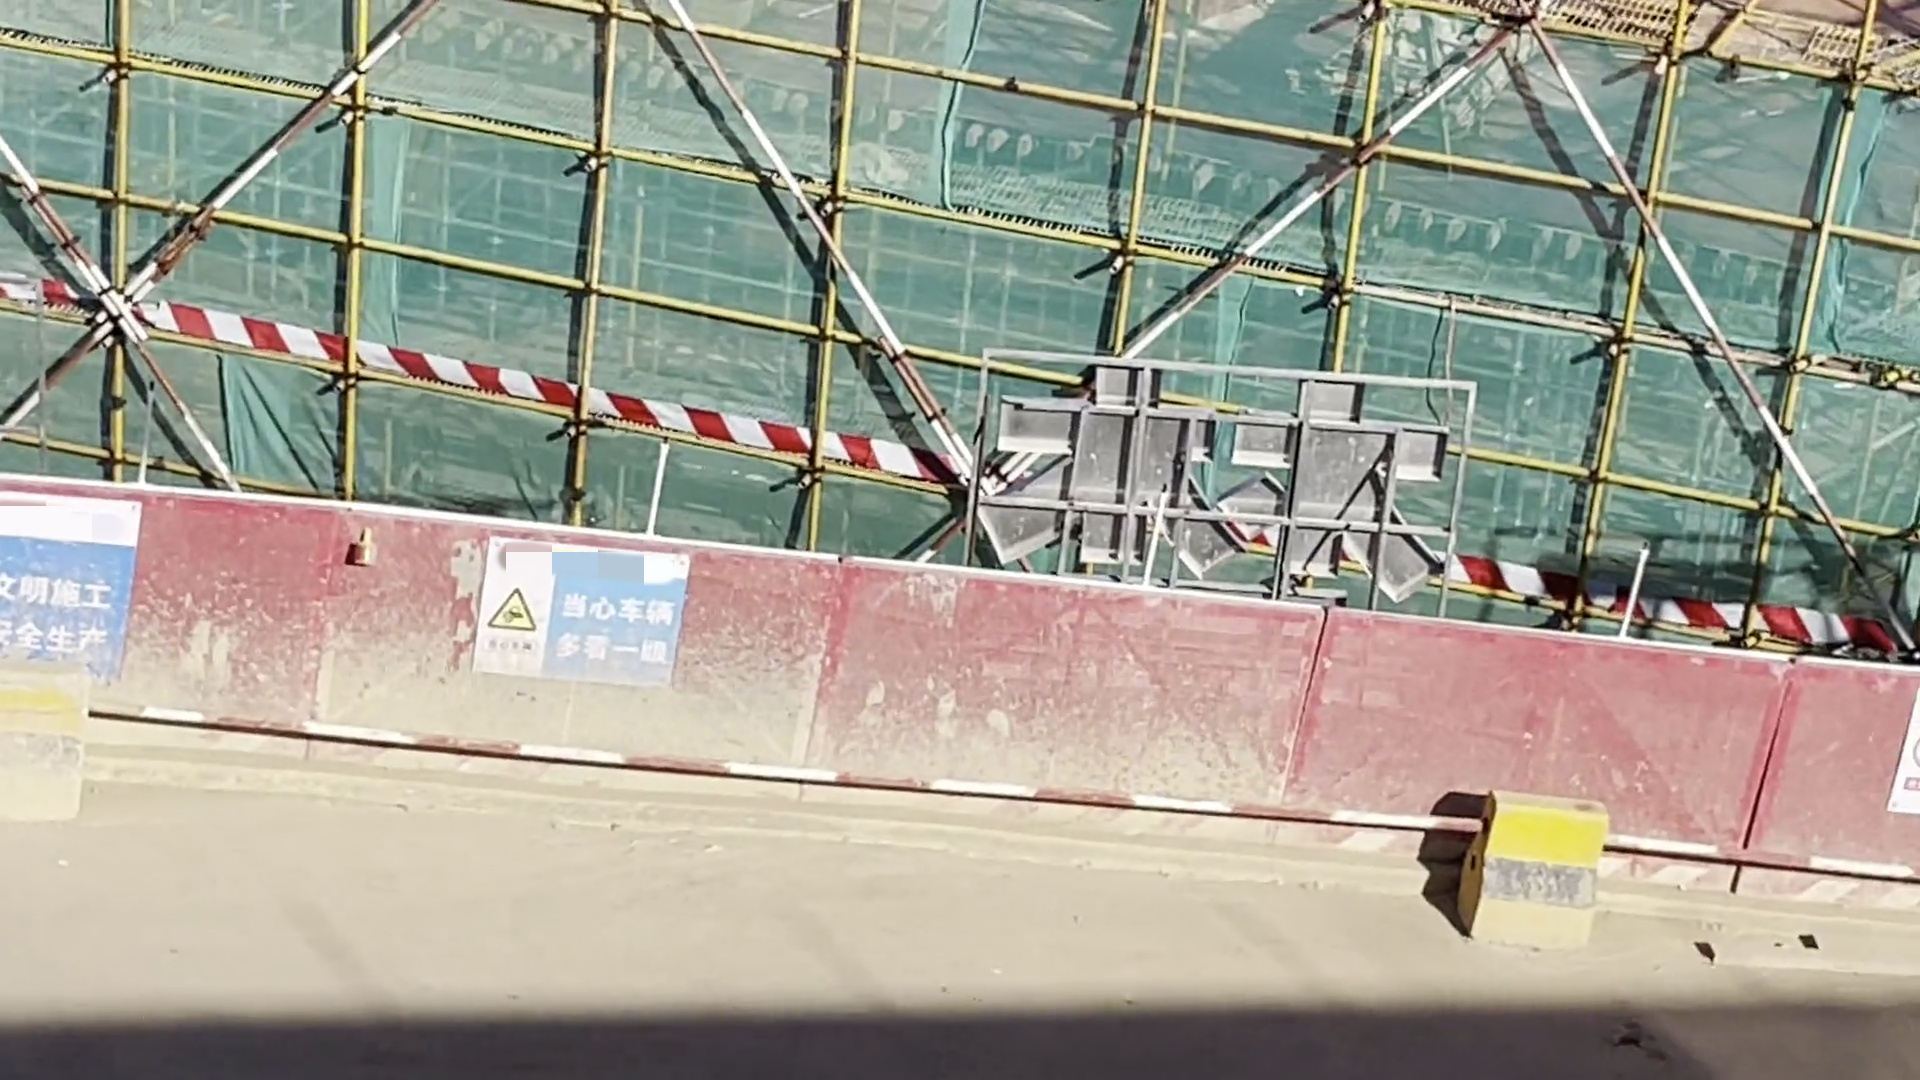fence: (5, 451, 1920, 938)
slogan: (1, 463, 186, 684), (469, 537, 691, 694)
